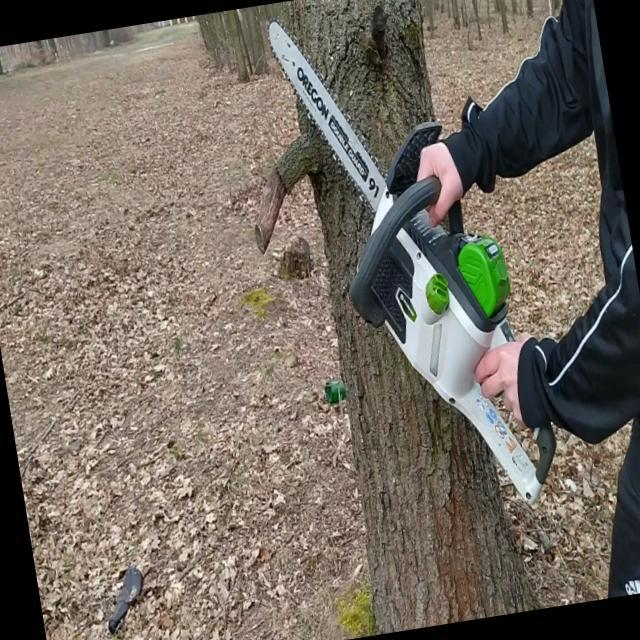Chainsaw: (258, 0, 581, 544)
